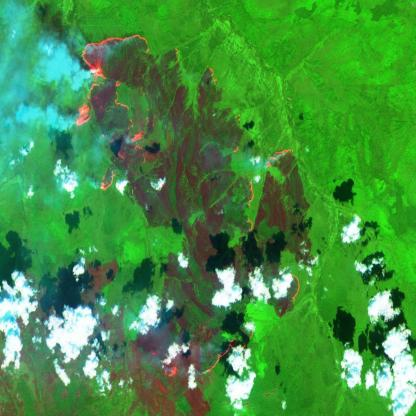fire: (74, 30, 150, 195)
